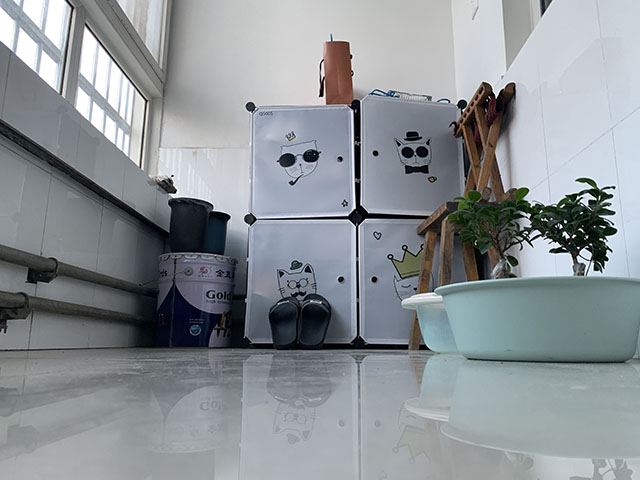cabinet: (240, 94, 472, 349)
slippers: (269, 293, 299, 350), (300, 290, 330, 347)
stool: (406, 200, 481, 351)
